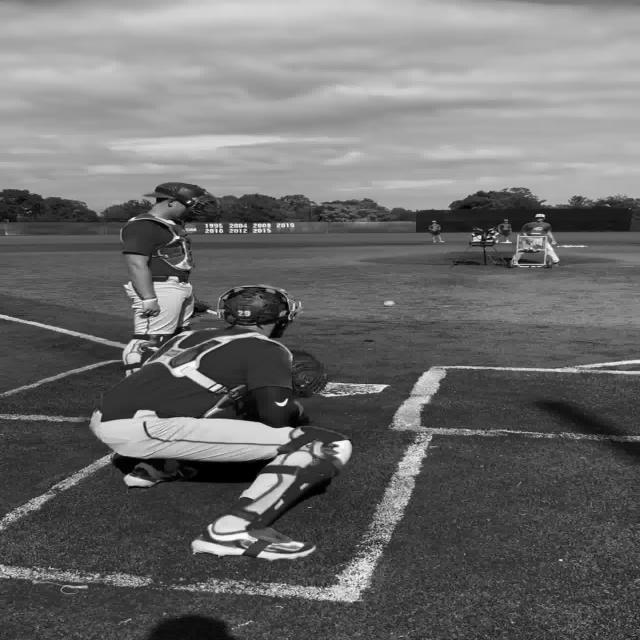baseball: (382, 300, 396, 306)
baseball_glove: (291, 351, 327, 396)
shoe: (191, 524, 316, 560), (124, 460, 196, 488)
